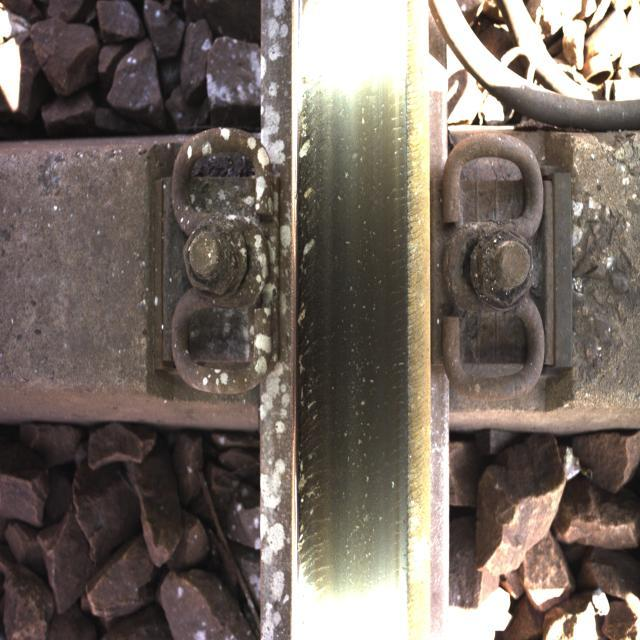normal: (297, 56, 388, 559)
